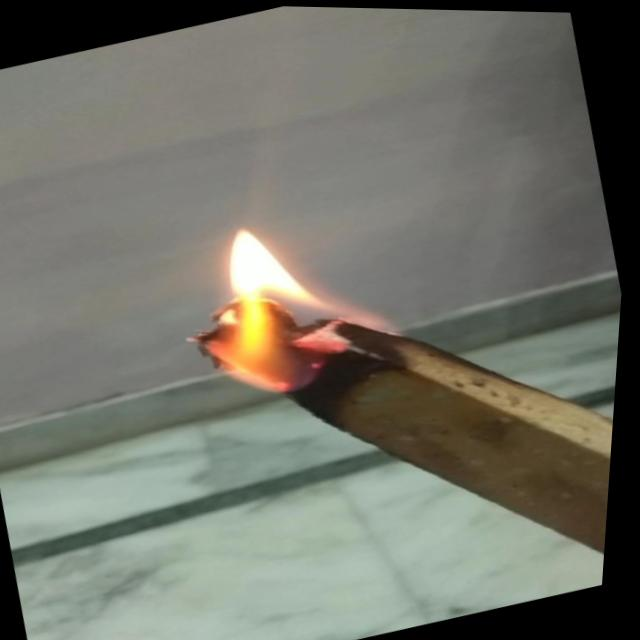fire: (145, 191, 412, 418)
